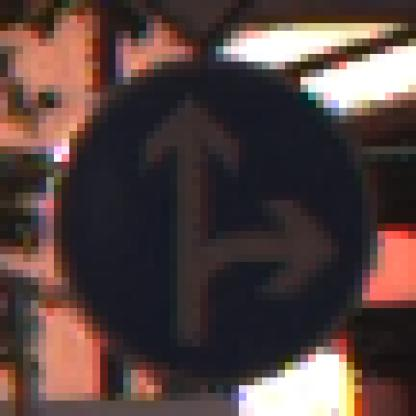Straight or Right: (47, 47, 379, 379)
